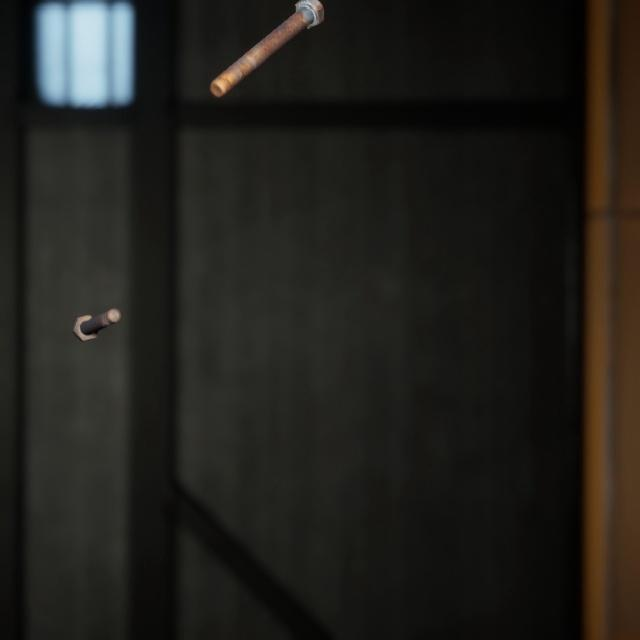bolt: (205, 0, 328, 91), (67, 285, 125, 329)
